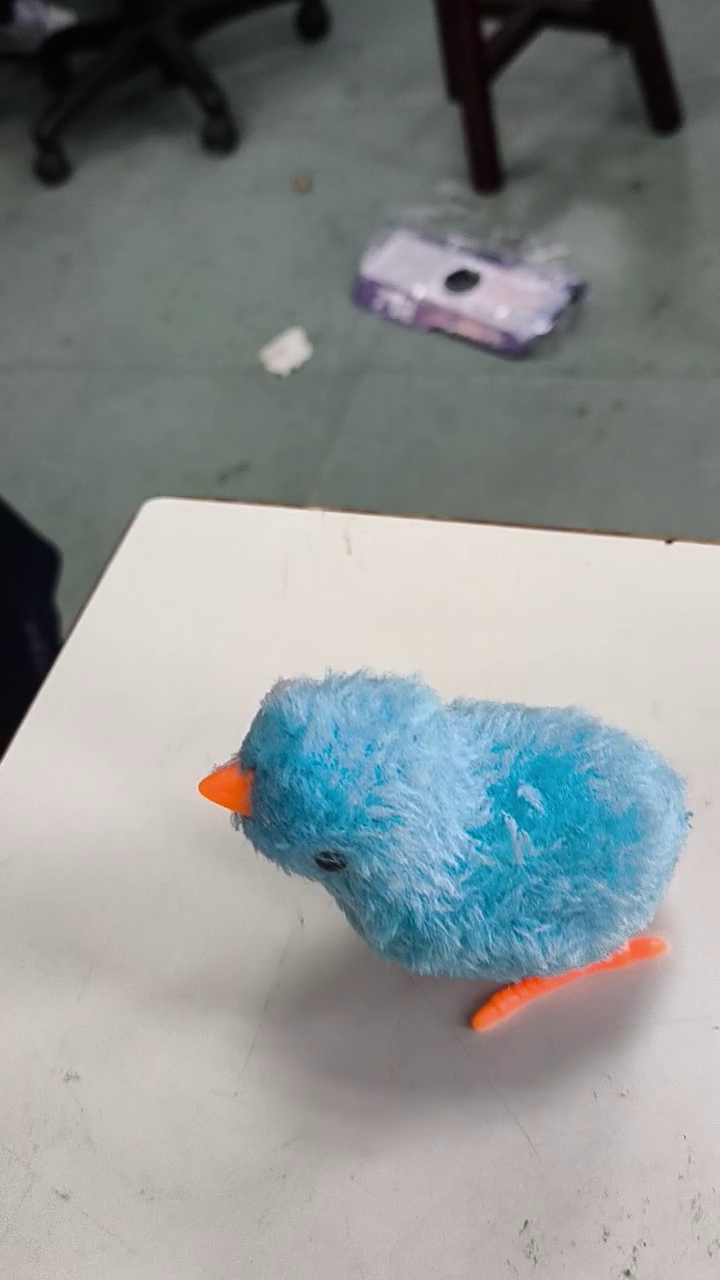blue chicken: (194, 663, 697, 1038)
